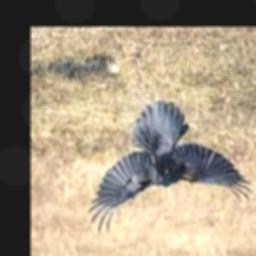Crow: (86, 101, 252, 233)
